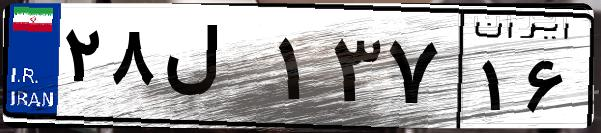1: (270, 28, 330, 110), (475, 38, 525, 113)
2: (57, 26, 110, 100)
3: (330, 28, 385, 110)
6: (525, 38, 570, 115)
7: (385, 28, 445, 110)
8: (110, 28, 158, 98)
ل: (158, 20, 270, 120)
